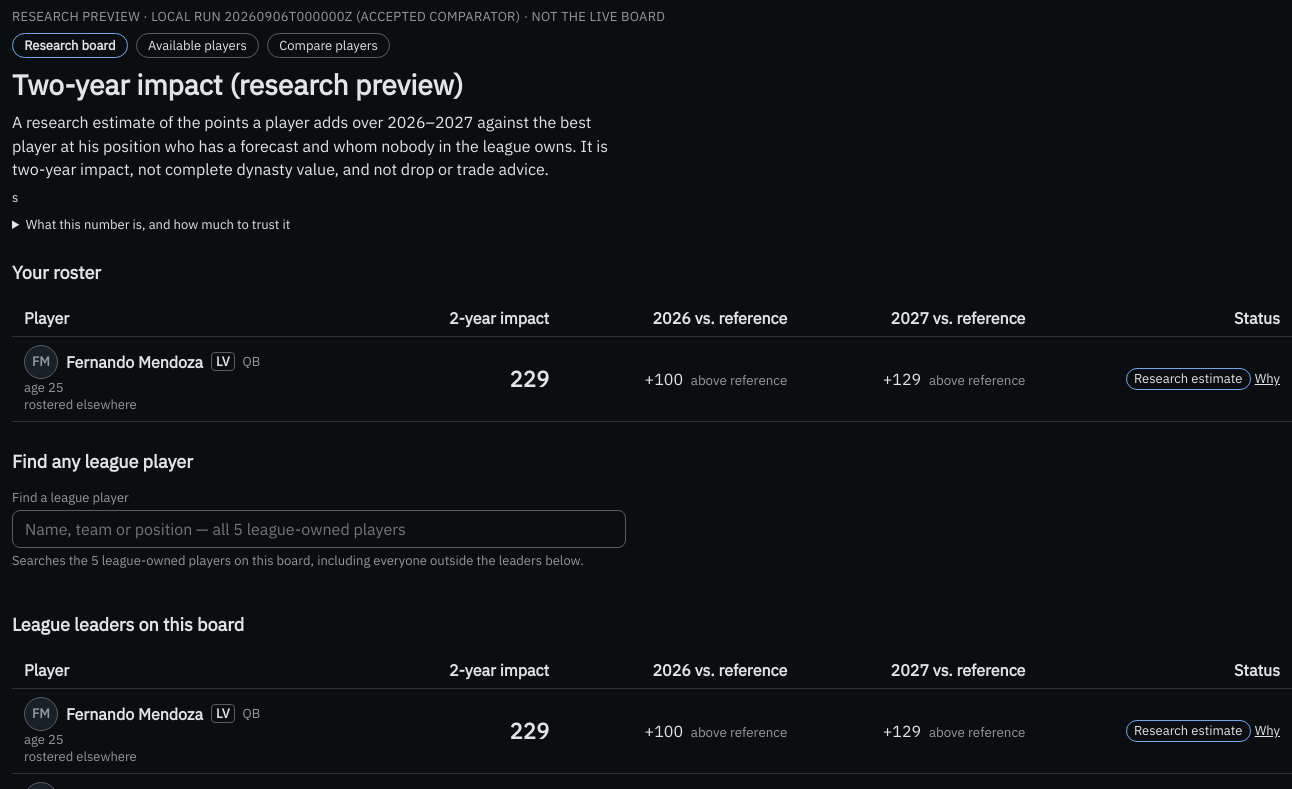
Test: ResearchPreview search › finds a league-owned player outside the leaders, clears back to the default, and says when nothing matches
The image size is (1292, 789).
expect the text "Deep Cut" is not shown: met
Type "deep" into the search field labelled "Find a league player" at [319, 529], box [12,510,626,548]
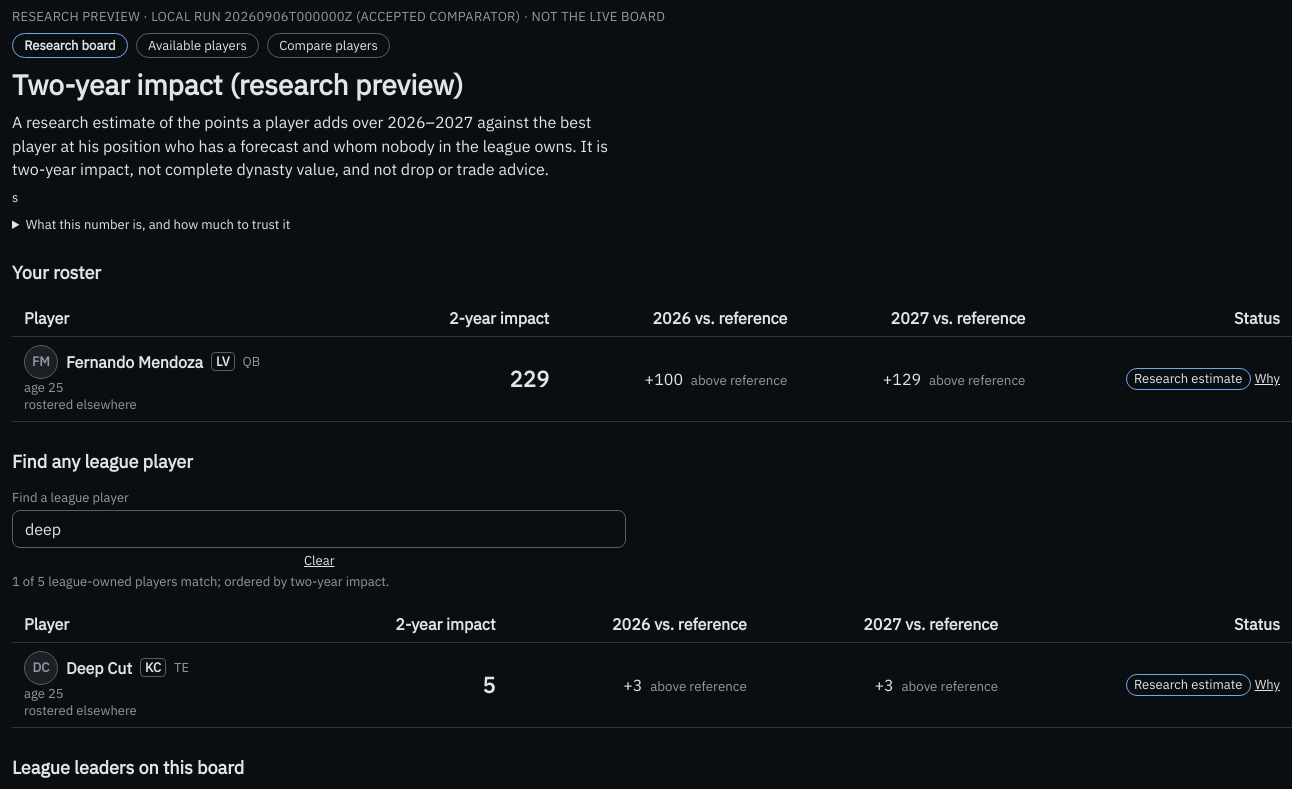
expect the text "Deep Cut" is shown: met, box [66,658,132,678]
expect the text "1 of 5 league-owned players match; ordered by two-year impact." is shown: met, box [12,573,389,590]
Note: a zero-impact player is found too, with the honest margin label
Replace the text in the search field labelled "Find a league player" with "reed" at [319, 529], box [12,510,626,548]
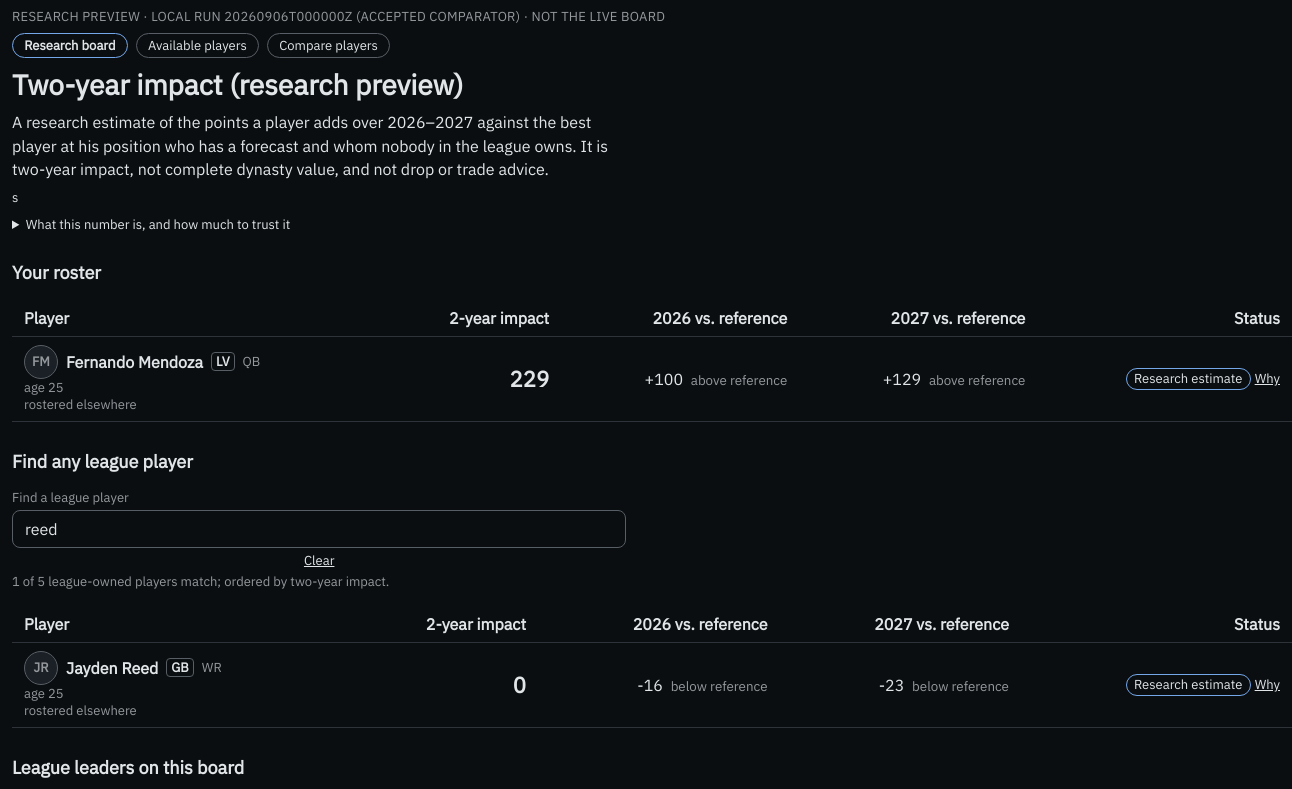
expect the text "Jayden Reed" is shown: met, box [66,658,158,678]
expect the text "below reference" next to "-16" is shown: met, box [671,677,767,695]
Note: no match state
Replace the text in the search field labelled "Find a league player" with "zzz" at [319, 529], box [12,510,626,548]
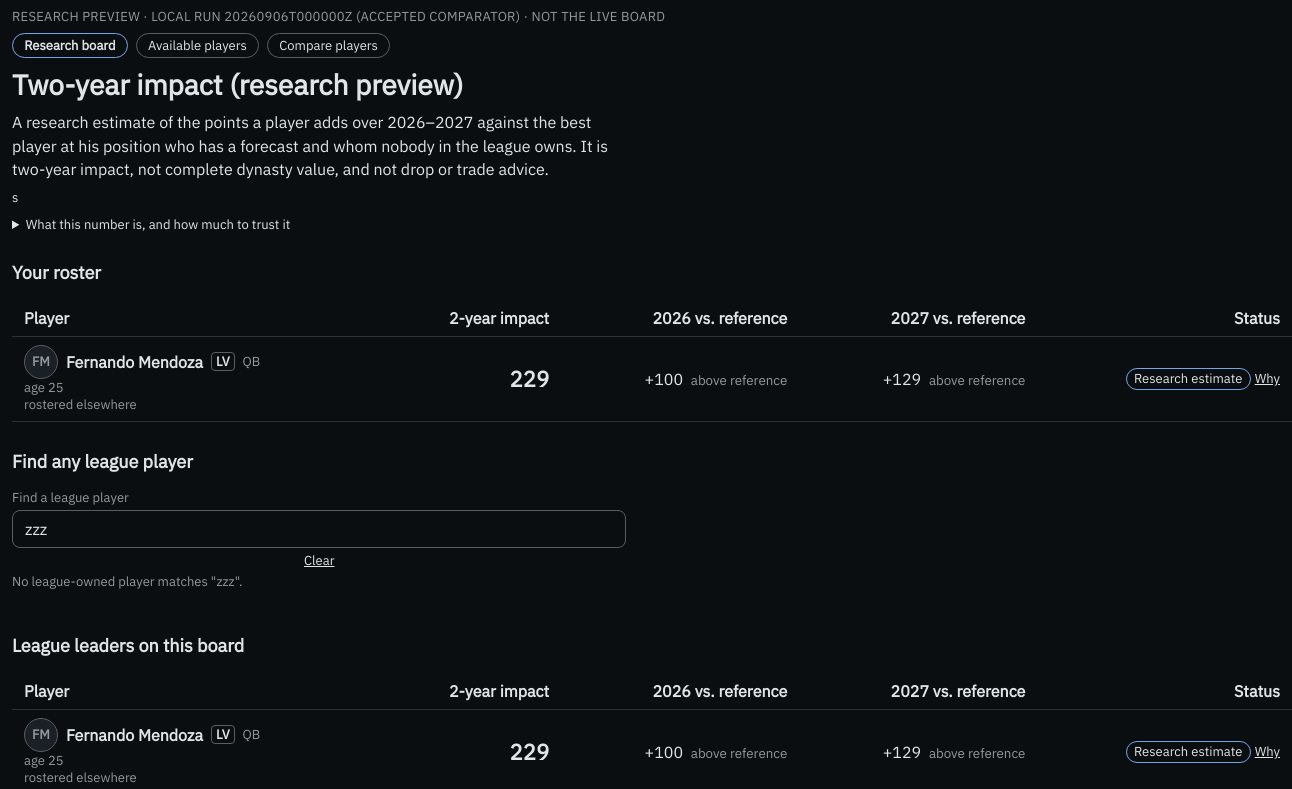
expect the text "No league-owned player matches \"zzz\"." is shown: met, box [12,573,242,590]
Note: clear control resets to the default view
Click the button with aria-label "Clear the player search" at [319, 560], box [12,552,626,569]
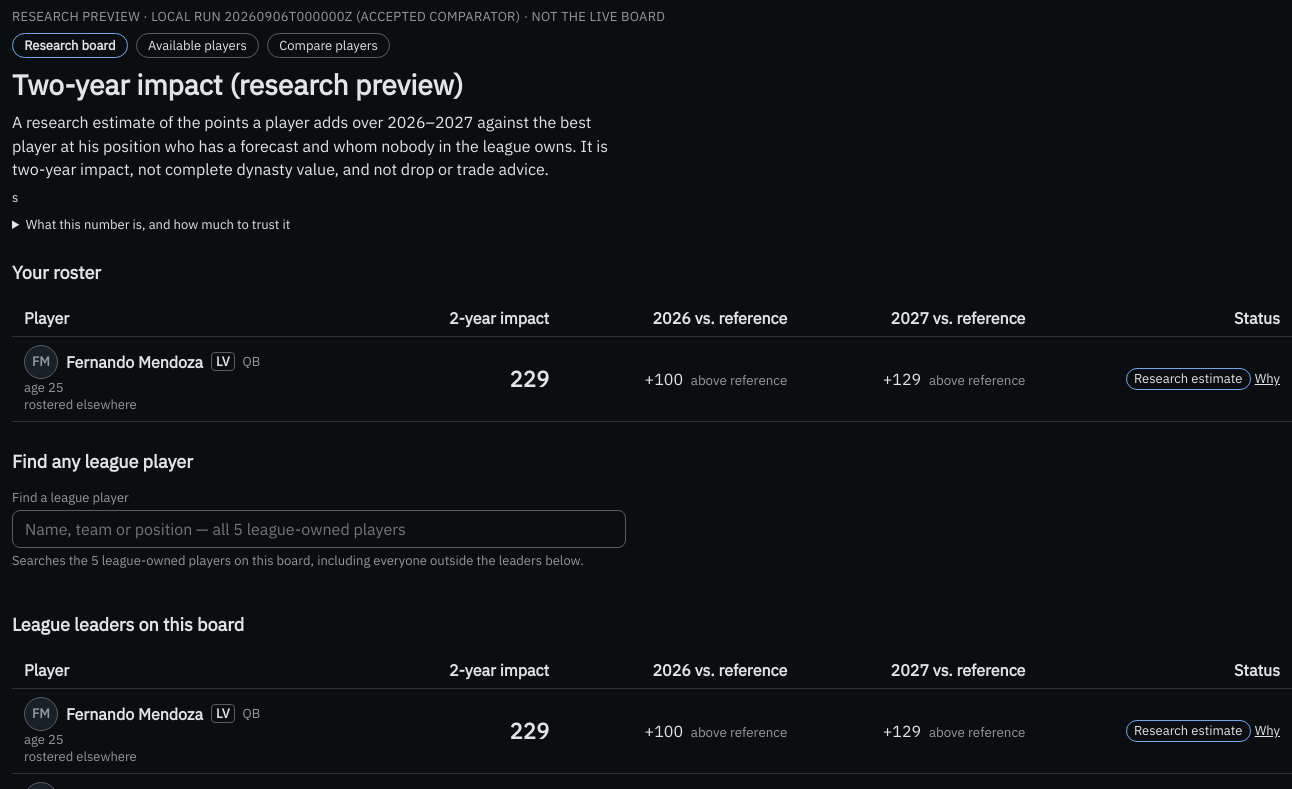
expect the text "Deep Cut" is not shown: met
expect the search field labelled "Find a league player" is empty: met, box [12,510,626,548]
expect the text "Searches the 5 league-owned players" is shown: met, box [12,552,584,569]
